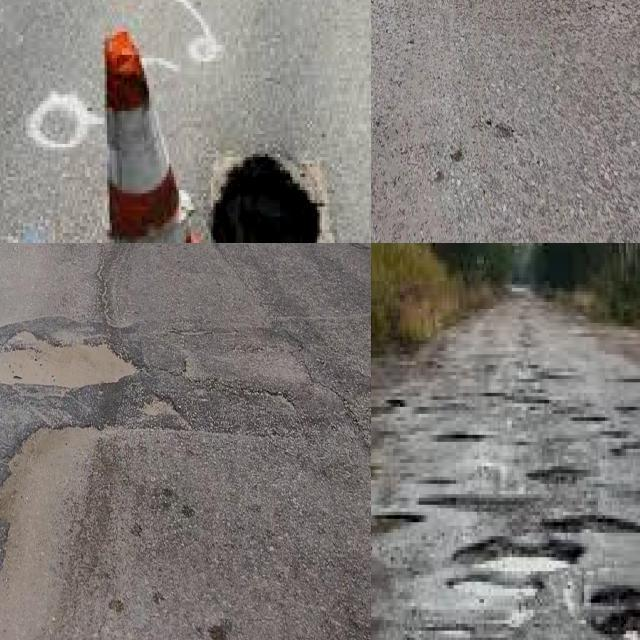Pothole: (208, 154, 327, 243), (451, 515, 640, 564), (0, 324, 142, 388), (416, 494, 531, 508), (528, 466, 591, 487), (371, 512, 423, 536), (610, 438, 640, 452)
